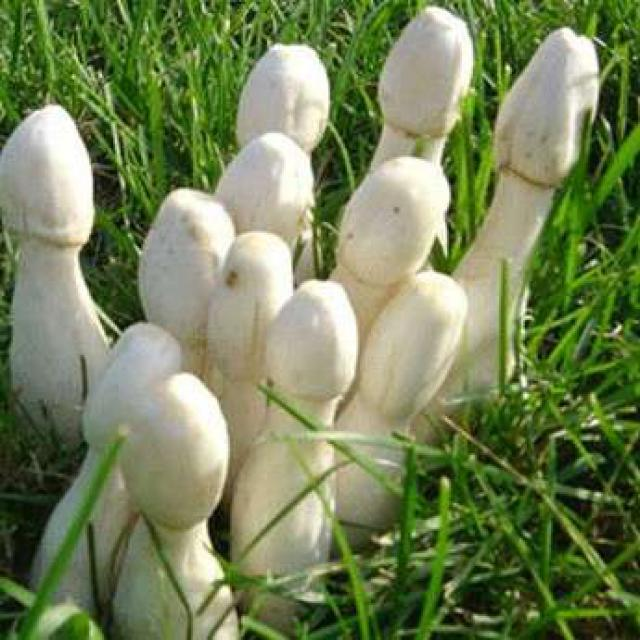Coprinus comatus: (474, 29, 599, 382), (32, 323, 179, 609), (239, 279, 358, 601), (1, 105, 112, 413), (339, 273, 466, 531), (123, 377, 242, 635), (241, 46, 329, 268), (379, 6, 472, 175), (142, 190, 233, 354), (213, 131, 314, 248)
